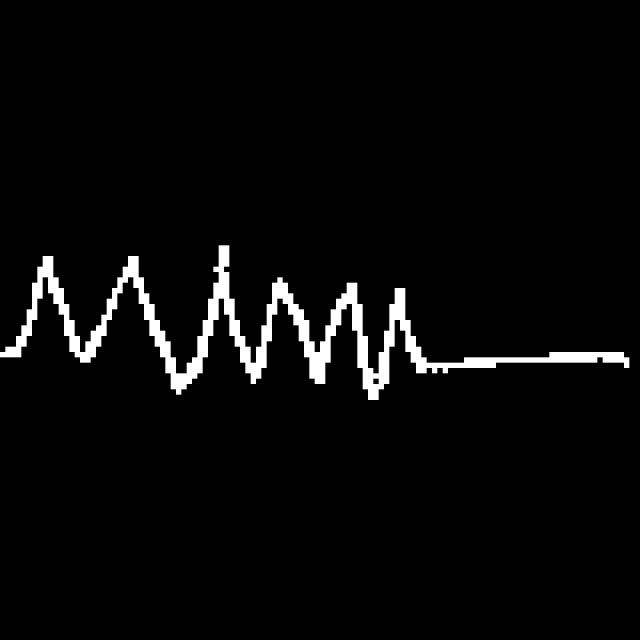resistor: (9, 220, 441, 432)
